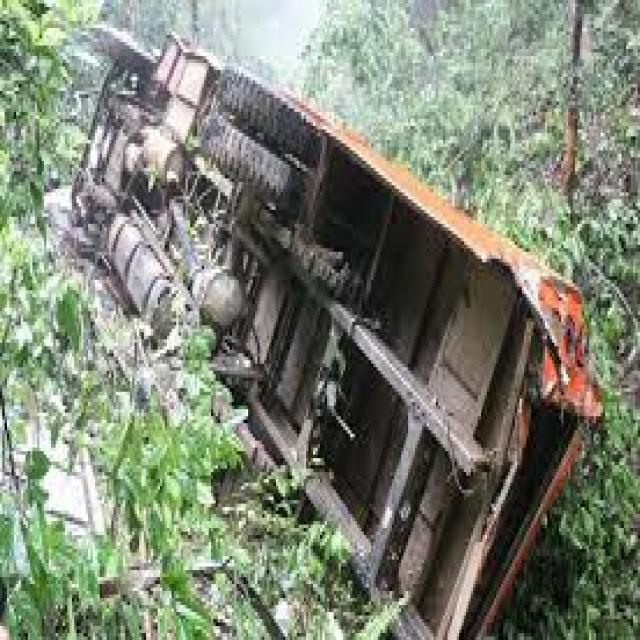accident: (45, 0, 594, 628)
